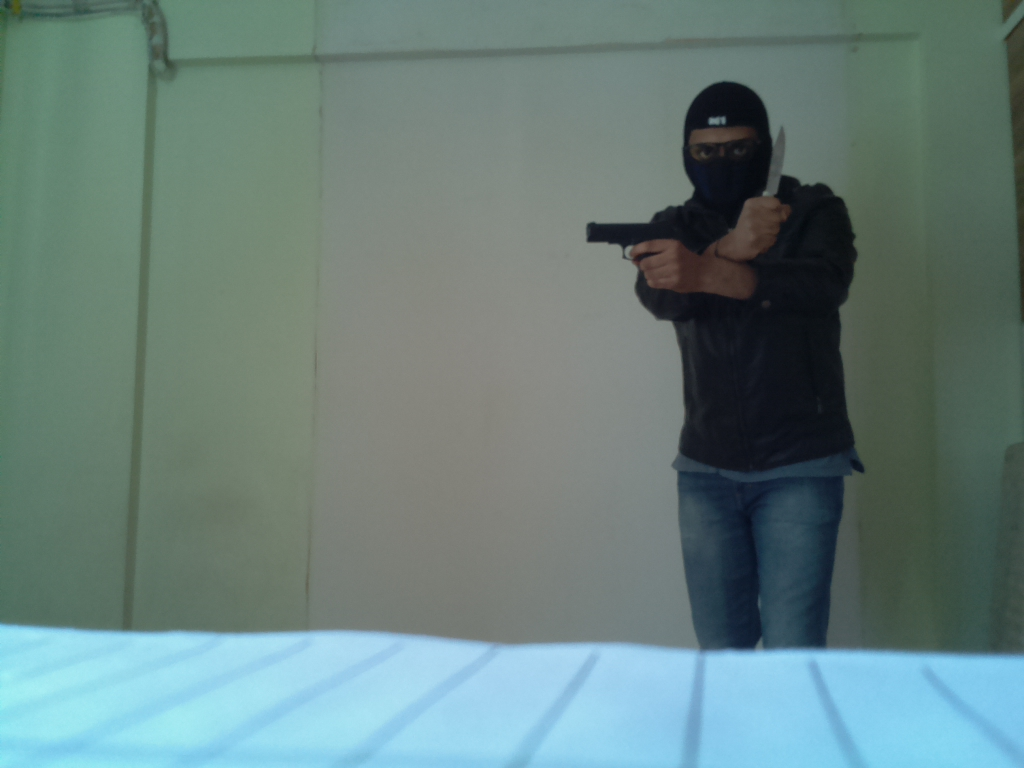gun: (579, 215, 687, 269)
knife: (763, 125, 790, 211)
